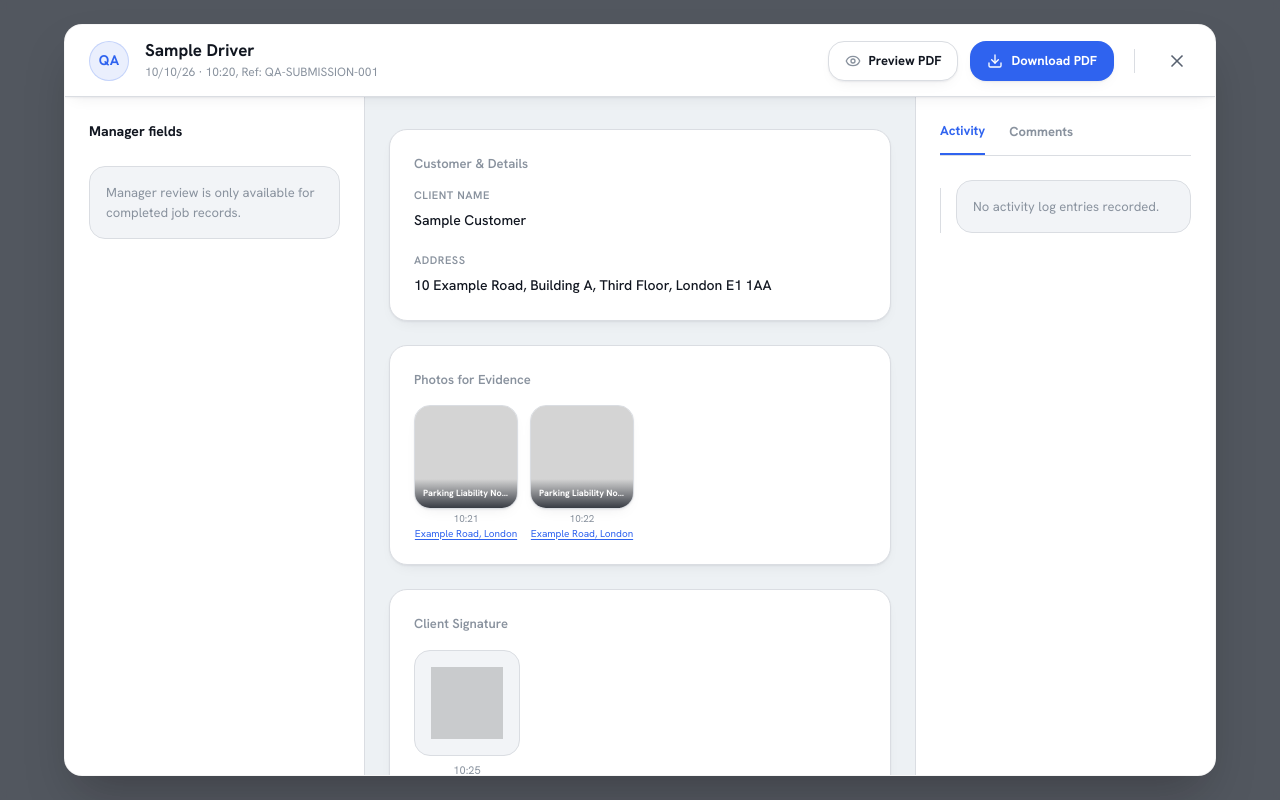
Scenario: Submission document preview › keeps scenario editing/activity available in form mode but clears them from preview mode
Expected: the heading "Manager fields" is shown, [89,122,182,140]
Click the button "Preview PDF" at [893, 60], box [828,40,958,80]
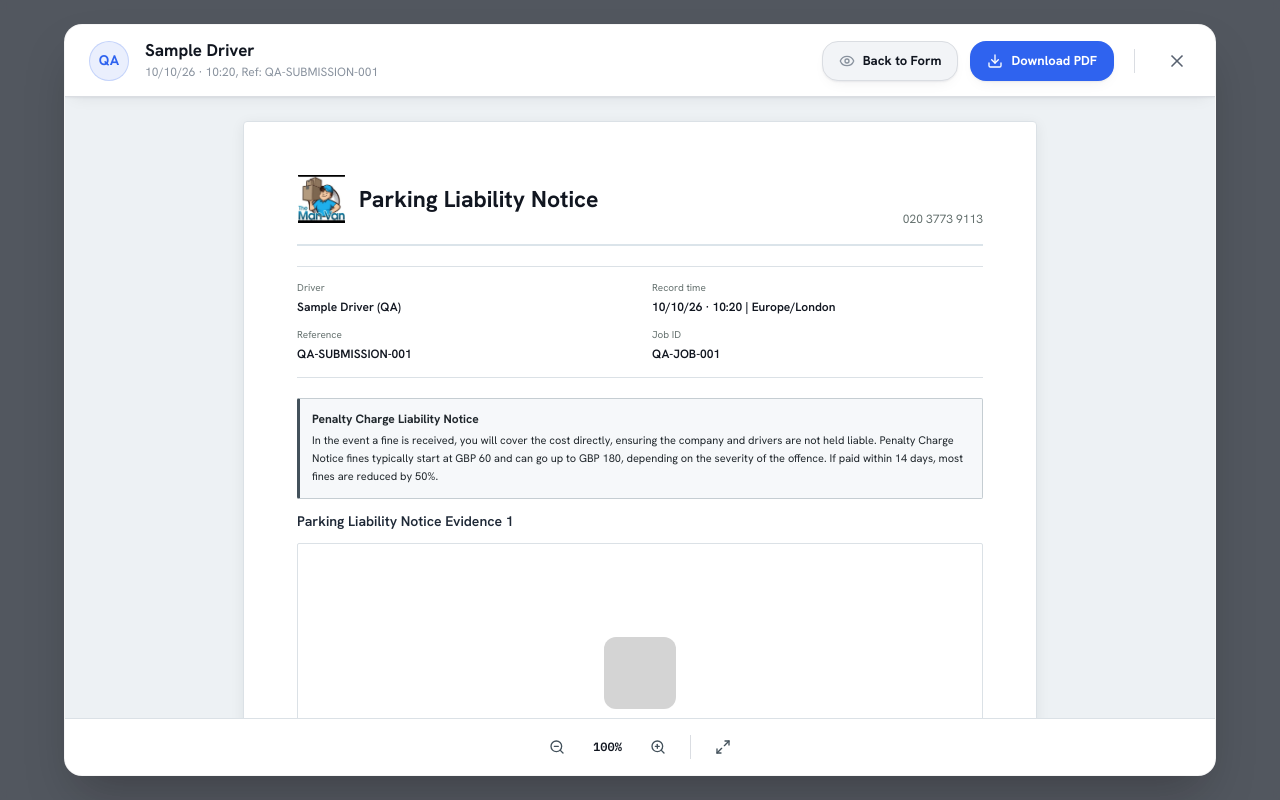
Expected: the heading "Parking Liability Notice" is shown, [359,184,598,213]
Expected: the heading "Manager fields" is gone
Expected: the button named "Zoom in" is shown, [638,727,678,767]
Click the button "Back to Form" at [890, 60], box [822,40,958,80]
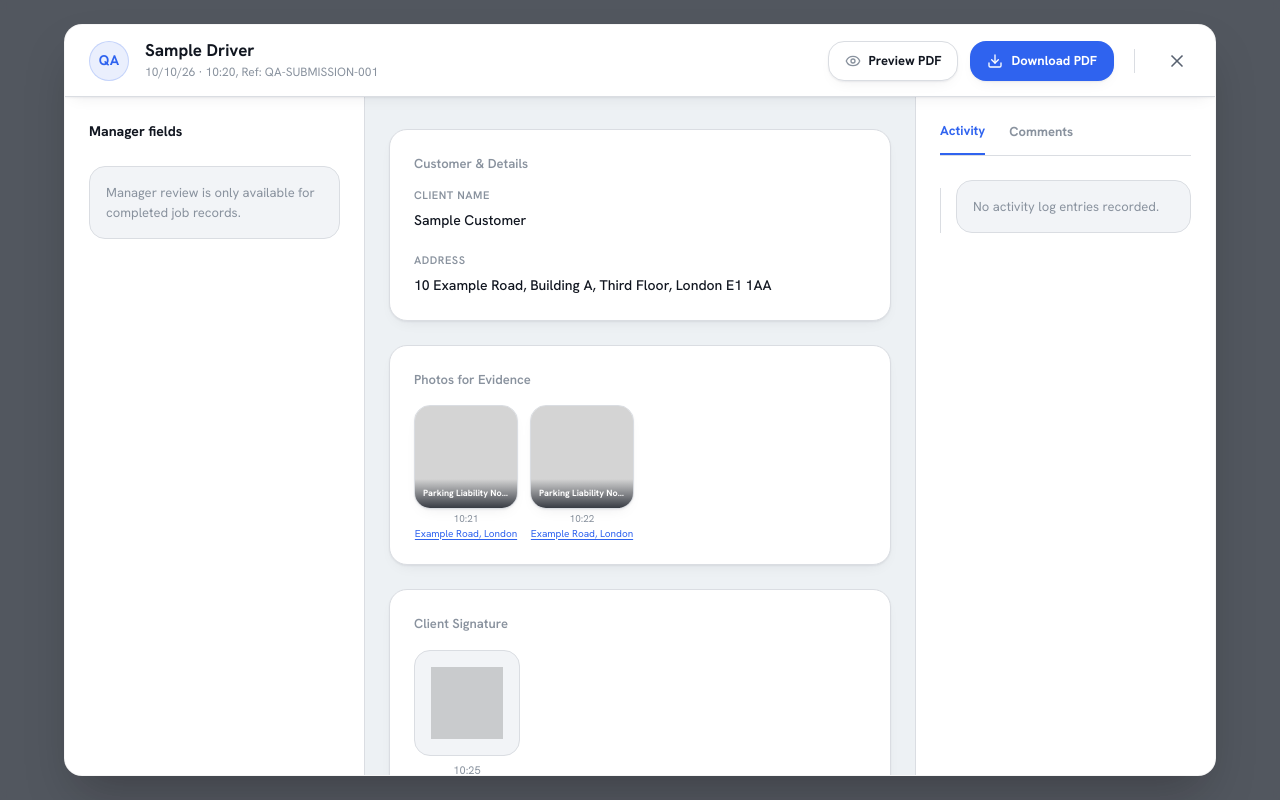
Expected: the heading "Manager fields" is shown, [89,122,182,140]
